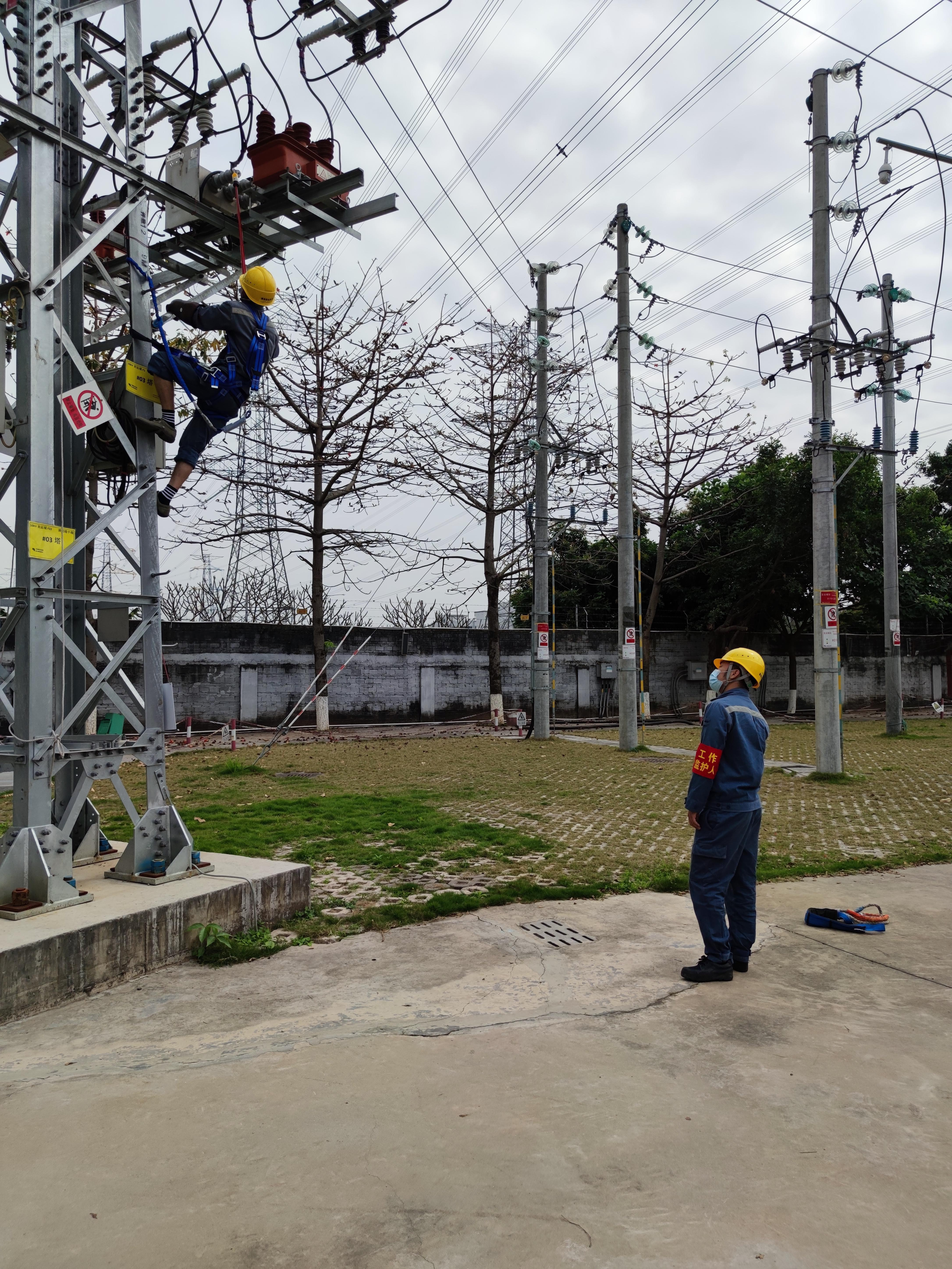绝缘操作杆: (231, 169, 247, 275)
